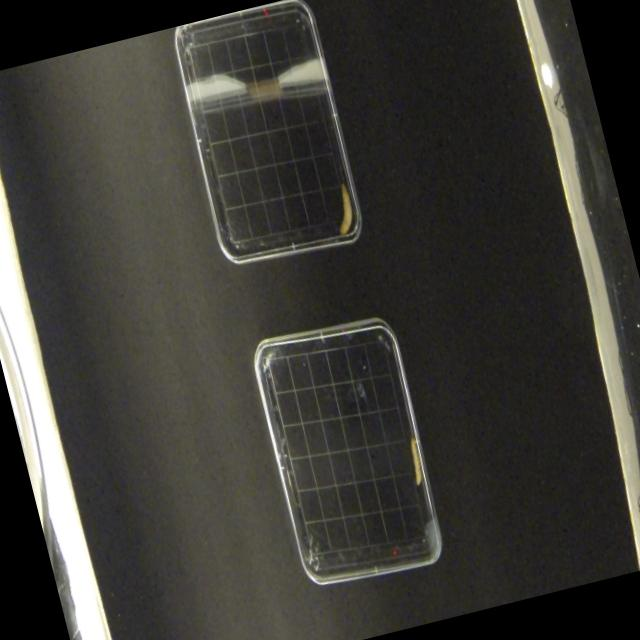larva: (326, 180, 359, 237), (404, 435, 426, 486)
